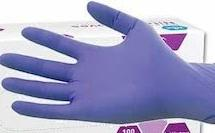gloves: (0, 2, 215, 133)
